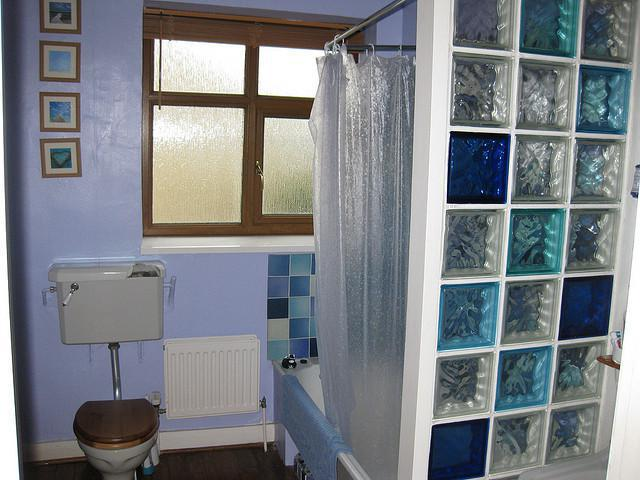Ducha: (313, 0, 639, 479)
Sanitario: (52, 258, 158, 479)
